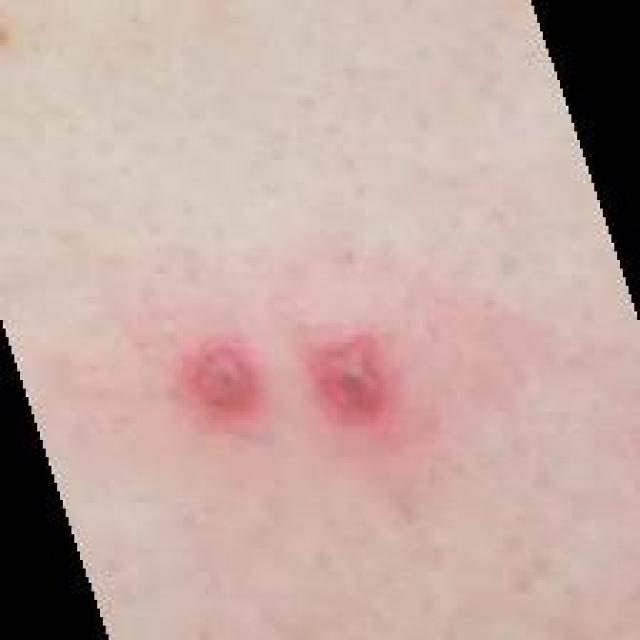monkeypox: (93, 108, 557, 640)
